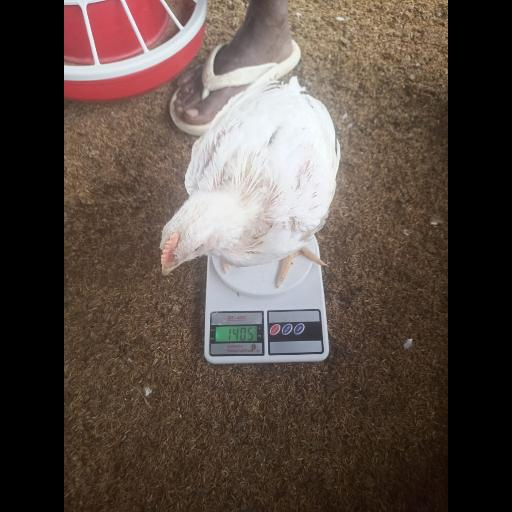chick: (160, 77, 341, 287)
